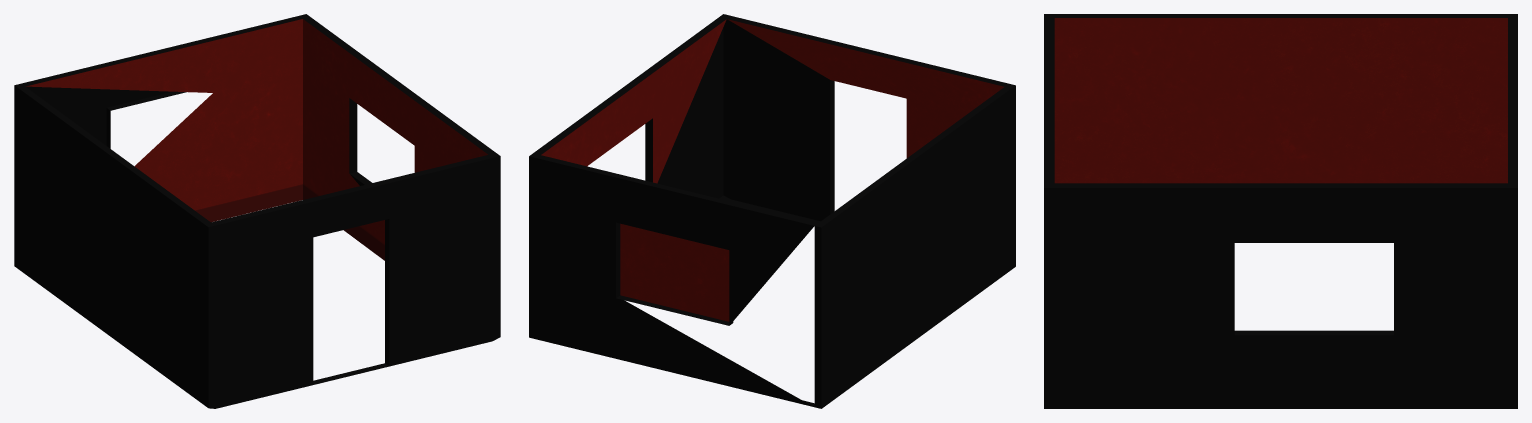
File: OfiiceWalls.obj
3 renders of one model, left to right at view 1: azimuth 30°, elevation 25°; view 2: azimuth 150°, elevation 25°; view 3: azimuth 270°, elevation 25°, orthographic. The views are drawn at different scales.
Visible parts, largest first — view 1: OfficeWalls; view 2: OfficeWalls; view 3: OfficeWalls.
Boxes of the visible parts, x1,y1,x2,y2 form: OfficeWalls: (14, 14, 500, 408); OfficeWalls: (529, 14, 1015, 408); OfficeWalls: (1044, 14, 1517, 408).
Bounding box in the file's own units: 591 × 355 × 680.
